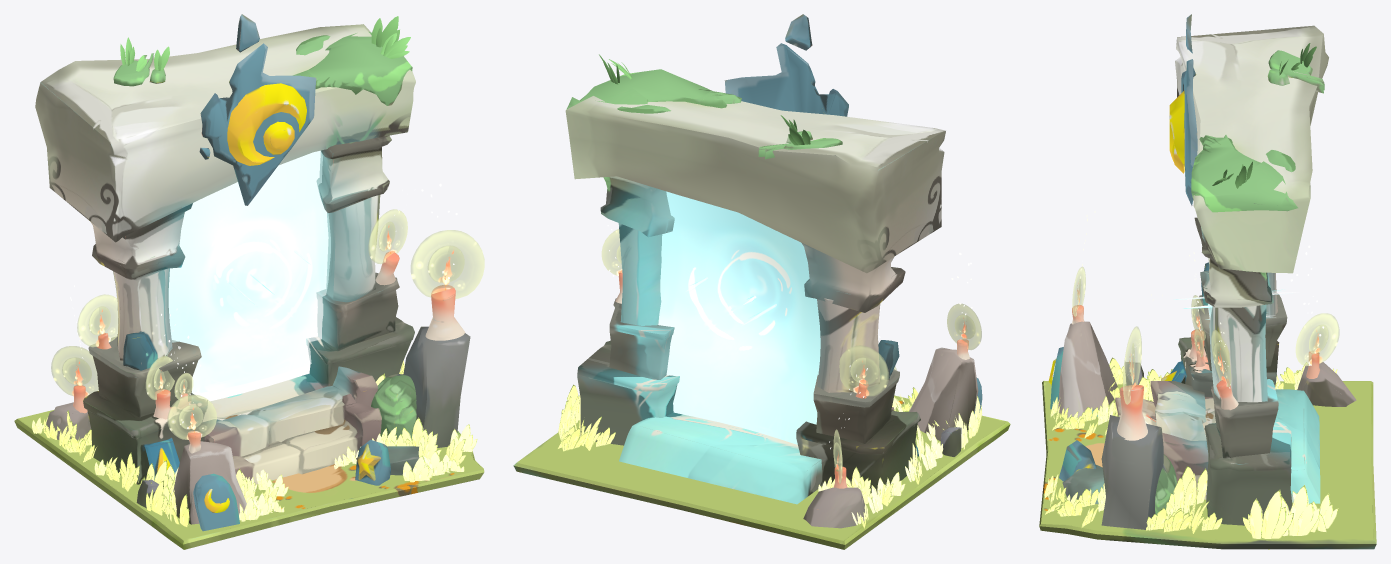
3 views of the same model, side by side, from view 1: azimuth 30°, elevation 25°; view 2: azimuth 150°, elevation 25°; view 3: azimuth 270°, elevation 25° (orthographic). The views are drawn at different scales.
Visible parts, largest first — view 1: main_mesh_0, protal_1, ground_2, gross_5, fire01_7, fire01.002_11, fire01.001_9, fire01.003_13, fire01.006_19, fire01.004_15; view 2: main_mesh_0, protal_1, ground_2, gross_5, fire01.003_13, fire01.001_9, fire01.006_19; view 3: main_mesh_0, ground_2, gross_5, fire01.002_11, fire01_7, fire01.006_19, fire01.001_9.
Part boxes in pixels (<box>): main_mesh_0: <box>35,14,470,531</box>; protal_1: <box>168,150,330,401</box>; ground_2: <box>14,410,484,549</box>; gross_5: <box>32,16,477,527</box>; fire01_7: <box>410,230,484,298</box>; fire01.002_11: <box>51,346,98,396</box>; fire01.001_9: <box>167,394,216,439</box>; fire01.003_13: <box>77,294,117,347</box>; fire01.006_19: <box>368,209,407,263</box>; fire01.004_15: <box>145,356,174,399</box>; main_mesh_0: <box>565,14,982,528</box>; protal_1: <box>658,191,820,444</box>; ground_2: <box>513,395,1010,549</box>; gross_5: <box>558,54,982,528</box>; fire01.003_13: <box>839,345,889,396</box>; fire01.001_9: <box>947,303,981,349</box>; fire01.006_19: <box>601,229,622,275</box>; main_mesh_0: <box>1048,14,1356,529</box>; ground_2: <box>1039,381,1376,549</box>; gross_5: <box>1044,43,1338,549</box>; fire01.002_11: <box>1295,313,1339,365</box>; fire01_7: <box>1123,326,1141,404</box>; fire01.006_19: <box>1211,329,1231,386</box>; fire01.001_9: <box>1072,266,1085,316</box>.
Size of what is drawn, in the model's own units: 4.83 by 6.04 by 4.15.
9 materials, 4 textured.
